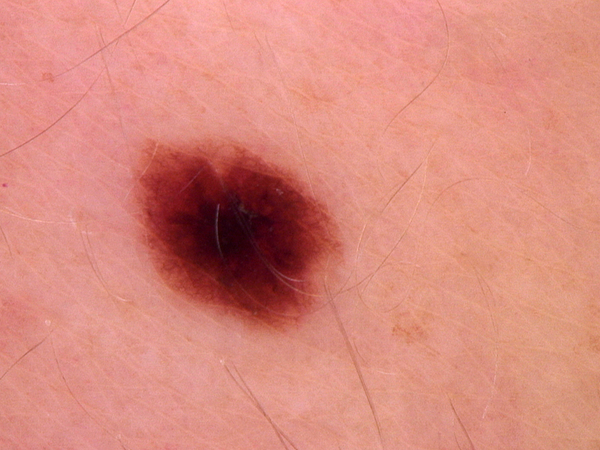Detected Lesion: (130, 130, 348, 337)
